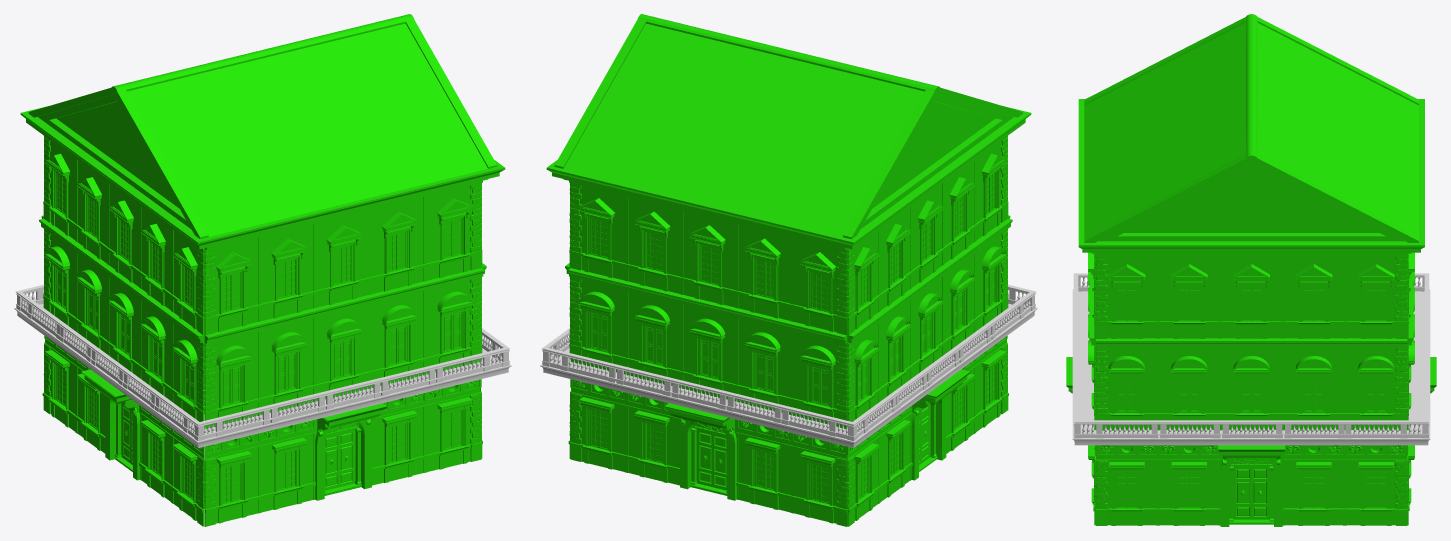
Rendered from JShouse.fbx.
3 renders of one model, left to right at view 1: azimuth 30°, elevation 25°; view 2: azimuth 150°, elevation 25°; view 3: azimuth 270°, elevation 25°, orthographic. The views are drawn at different scales.
Parts seen in each view (by area): view 1: JShouse; view 2: JShouse; view 3: JShouse.
Part boxes in pixels (x1,y1,x2,y2): JShouse: [14, 14, 511, 526]; JShouse: [540, 14, 1037, 526]; JShouse: [1066, 14, 1436, 526].
Size of the model in its own units: 1906 by 2124 by 1903.
